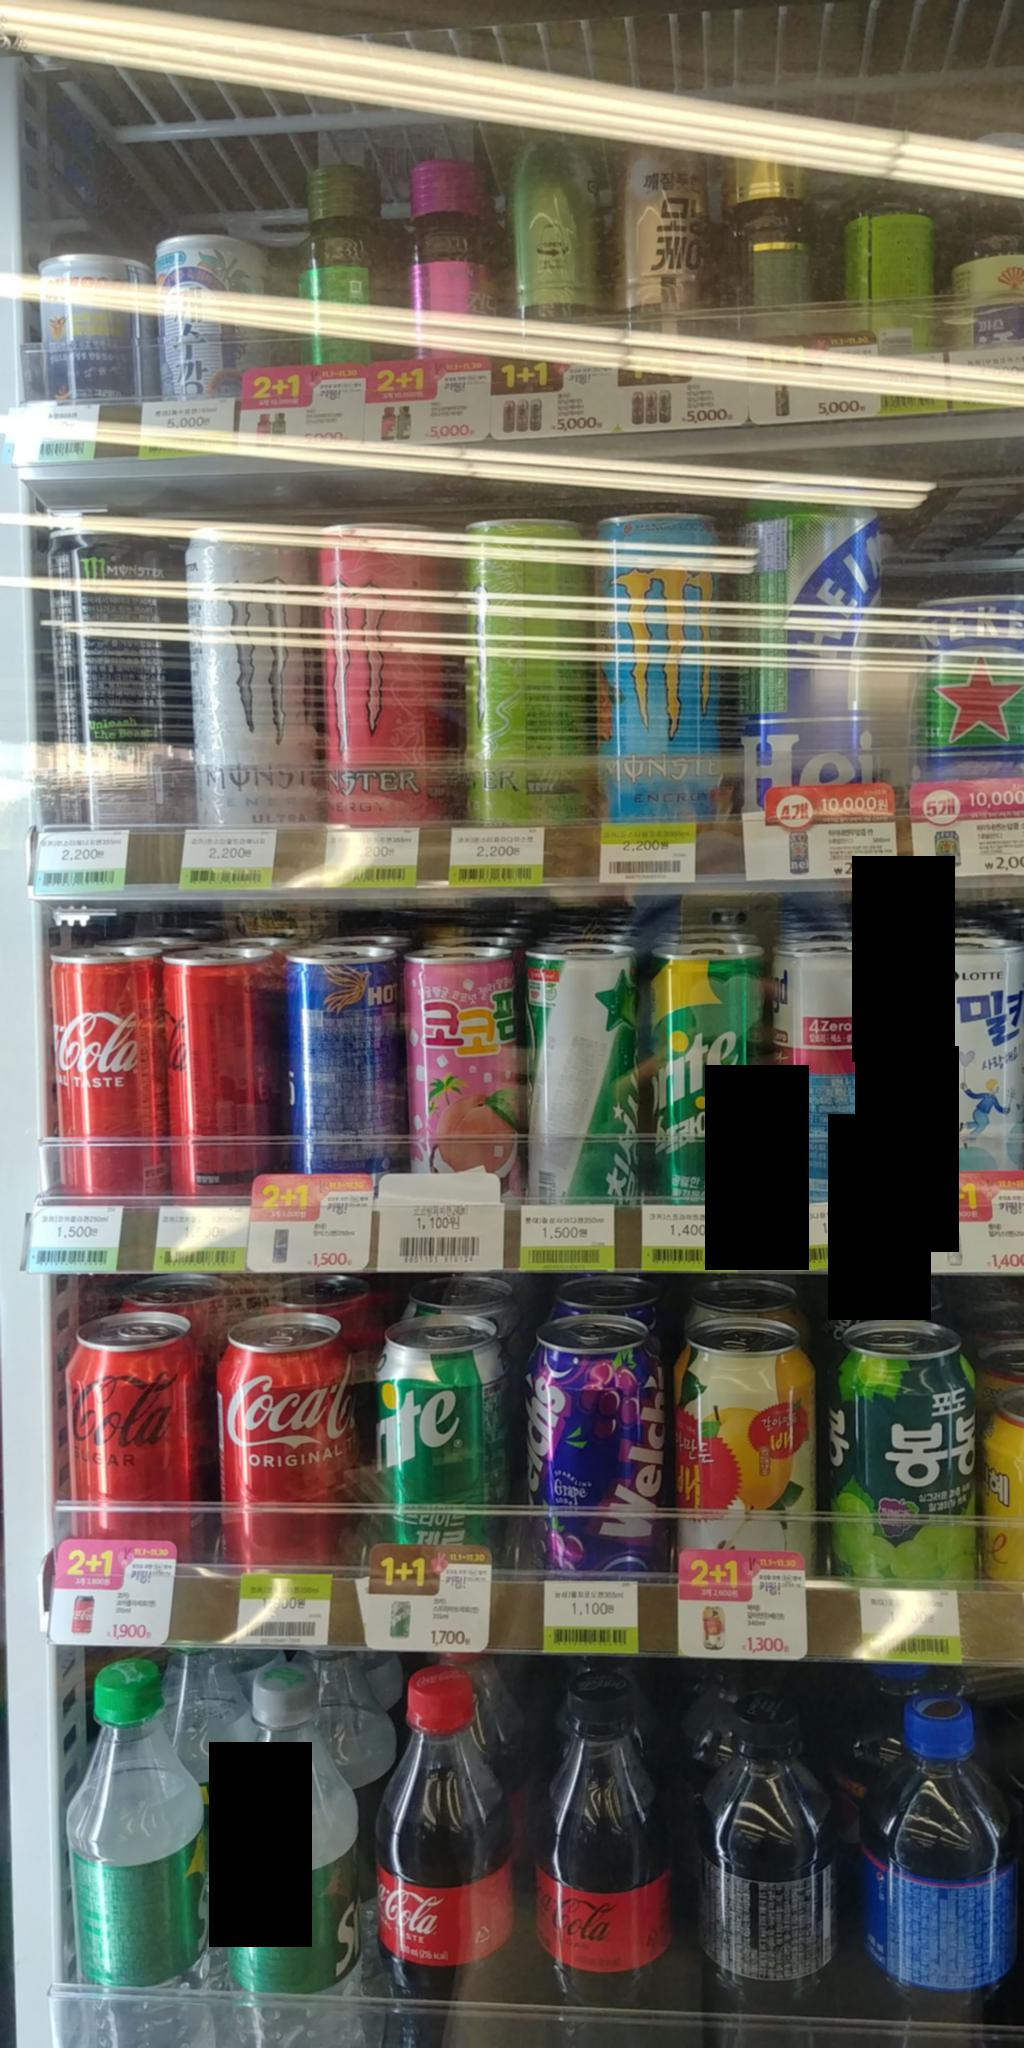cocacola: (213, 1305, 357, 1556)
cocacola_zero: (155, 957, 278, 1203)
hotsix_org: (283, 938, 406, 1176)
narangdcider: (776, 935, 899, 1215)
welchs_grape: (530, 1310, 670, 1574)
